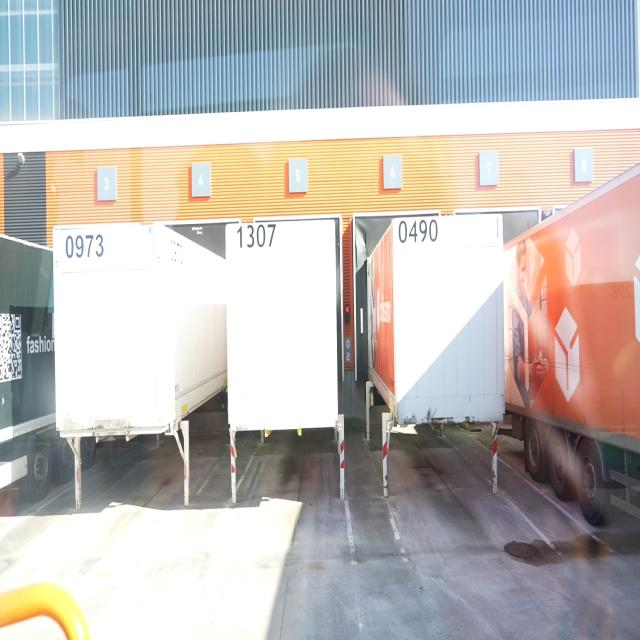Code: (61, 228, 107, 260), (233, 222, 278, 252), (396, 217, 440, 246)
